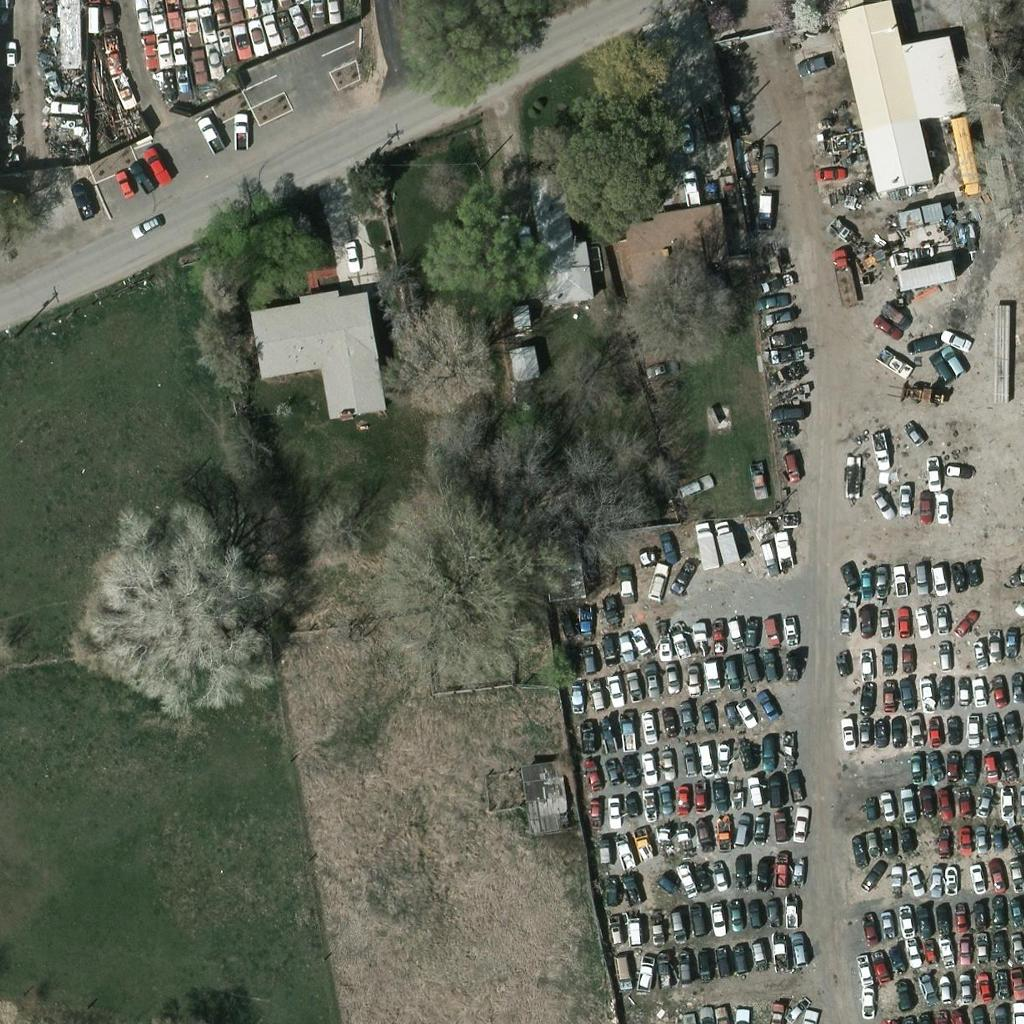car: (280, 4, 314, 38), (190, 8, 224, 42), (174, 9, 208, 43), (254, 11, 288, 45), (268, 15, 302, 49), (240, 19, 274, 53), (225, 23, 259, 57), (208, 27, 242, 61), (146, 30, 180, 64), (159, 30, 193, 64), (131, 32, 165, 66), (196, 40, 230, 74), (795, 46, 829, 80), (181, 49, 215, 83), (108, 77, 142, 111), (48, 90, 82, 124), (224, 112, 258, 146), (194, 116, 228, 150), (668, 117, 702, 151), (751, 144, 785, 178), (139, 147, 173, 181), (812, 154, 846, 188), (122, 159, 156, 193), (108, 166, 142, 200), (673, 167, 707, 201), (65, 181, 99, 215), (127, 208, 161, 242), (334, 236, 368, 270), (754, 281, 788, 315), (763, 297, 797, 331), (879, 301, 913, 335), (869, 308, 903, 342), (770, 319, 804, 353), (938, 323, 972, 357), (904, 325, 938, 359), (904, 326, 938, 360), (935, 343, 969, 377), (876, 344, 910, 378), (924, 349, 958, 383), (643, 351, 677, 385), (769, 394, 803, 428), (769, 395, 803, 429), (897, 416, 931, 450), (773, 449, 807, 483), (936, 453, 970, 487), (916, 457, 950, 491), (741, 464, 775, 498), (675, 468, 709, 502), (888, 480, 922, 514), (864, 486, 898, 520), (908, 486, 942, 520), (925, 493, 959, 527), (651, 530, 685, 564), (750, 540, 784, 574), (956, 554, 990, 588), (664, 559, 698, 593), (831, 559, 865, 593), (943, 559, 977, 593), (903, 560, 937, 594), (922, 560, 956, 594), (882, 561, 916, 595), (861, 562, 895, 596), (848, 564, 882, 598), (638, 565, 672, 599), (608, 567, 642, 601), (905, 603, 939, 637), (924, 603, 958, 637), (568, 607, 602, 641), (886, 607, 920, 641), (945, 607, 979, 641), (751, 613, 785, 647), (774, 613, 808, 647), (716, 614, 750, 648), (732, 614, 766, 648), (609, 629, 643, 663), (589, 630, 623, 664), (978, 630, 1012, 664), (889, 639, 923, 673), (927, 641, 961, 675), (870, 642, 904, 676), (571, 644, 605, 678), (825, 648, 859, 682), (731, 650, 765, 684), (848, 650, 882, 684), (753, 651, 787, 685), (712, 656, 746, 690), (652, 660, 686, 694), (674, 661, 708, 695), (674, 662, 708, 696), (635, 663, 669, 697), (616, 669, 650, 703), (597, 671, 631, 705), (910, 673, 944, 707), (980, 675, 1014, 709), (889, 676, 923, 710), (927, 676, 961, 710), (961, 676, 995, 710), (947, 677, 981, 711), (872, 679, 906, 713), (850, 683, 884, 717), (750, 688, 784, 722), (727, 694, 761, 728), (668, 698, 702, 732), (690, 700, 724, 734), (630, 705, 664, 739), (653, 705, 687, 739), (899, 711, 933, 745), (955, 712, 989, 746), (936, 713, 970, 747), (975, 714, 1009, 748), (864, 716, 898, 750), (880, 717, 914, 751), (831, 718, 865, 752), (845, 718, 879, 752), (920, 719, 954, 753), (753, 733, 787, 767), (704, 737, 738, 771), (689, 742, 723, 776), (650, 746, 684, 780), (672, 746, 706, 780), (917, 746, 951, 780), (990, 747, 1024, 781), (630, 748, 664, 782), (899, 748, 933, 782), (900, 748, 934, 782), (973, 748, 1007, 782), (934, 749, 968, 783), (952, 750, 986, 784), (613, 753, 647, 787), (597, 757, 631, 791), (576, 759, 610, 793), (778, 766, 812, 800), (759, 773, 793, 807), (737, 774, 771, 808), (700, 775, 734, 809), (649, 780, 683, 814), (663, 780, 697, 814), (683, 781, 717, 815), (631, 783, 665, 817), (928, 783, 962, 817), (910, 785, 944, 819), (989, 786, 1023, 820), (870, 787, 904, 821), (613, 789, 647, 823), (893, 790, 927, 824), (853, 792, 887, 826), (575, 793, 609, 827), (596, 794, 630, 828), (783, 806, 817, 840), (763, 808, 797, 842), (743, 810, 777, 844), (724, 812, 758, 846), (948, 820, 982, 854), (980, 820, 1014, 854), (888, 823, 922, 857), (963, 823, 997, 857), (624, 825, 658, 859), (853, 826, 887, 860), (871, 827, 905, 861), (606, 833, 640, 867), (844, 840, 878, 874), (855, 858, 889, 892), (961, 859, 995, 893), (980, 861, 1014, 895), (898, 864, 932, 898), (611, 866, 645, 900), (594, 869, 628, 903), (758, 891, 792, 925), (718, 894, 752, 928), (982, 896, 1016, 930), (738, 898, 772, 932), (678, 901, 712, 935), (701, 901, 735, 935), (887, 904, 921, 938), (909, 905, 943, 939), (871, 907, 905, 941), (658, 908, 692, 942), (640, 912, 674, 946), (598, 916, 632, 950), (948, 929, 982, 963), (782, 931, 816, 965), (927, 932, 961, 966), (741, 937, 775, 971), (722, 941, 756, 975), (707, 944, 741, 978), (646, 948, 680, 982), (687, 949, 721, 983), (669, 950, 703, 984), (626, 951, 660, 985), (866, 952, 900, 986), (604, 953, 638, 987), (909, 968, 943, 1002), (969, 972, 1003, 1006), (949, 973, 983, 1007), (927, 974, 961, 1008), (886, 980, 920, 1014), (849, 983, 883, 1017), (125, 0, 159, 33), (140, 0, 174, 32), (203, 0, 237, 31), (993, 712, 1024, 746), (156, 0, 190, 29), (995, 622, 1024, 656), (0, 38, 26, 72), (999, 822, 1024, 856), (301, 0, 335, 24), (317, 0, 351, 24), (1000, 673, 1024, 707), (1000, 857, 1024, 891), (1002, 962, 1024, 996), (941, 1004, 975, 1024), (216, 0, 250, 19), (704, 1005, 738, 1024), (233, 0, 267, 17), (1002, 1005, 1024, 1024)
